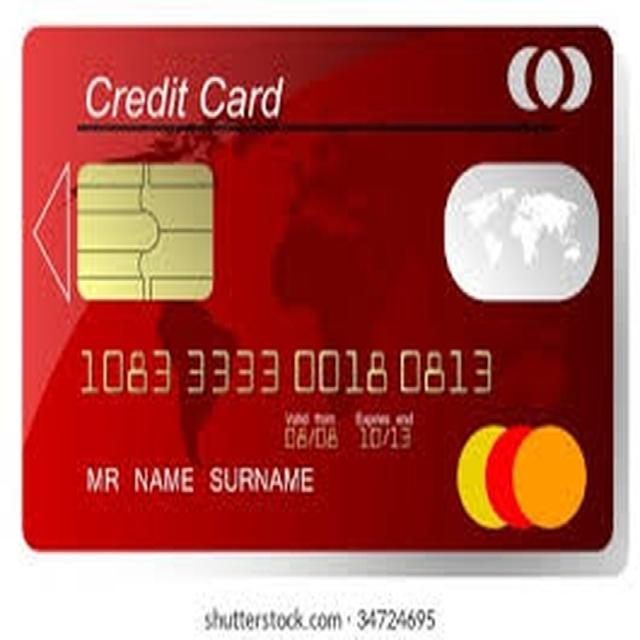card: (13, 11, 631, 582)
